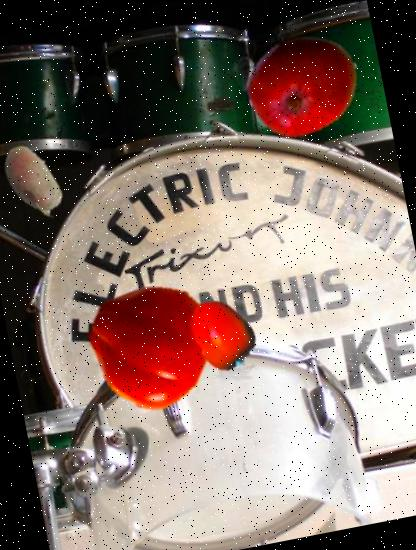Kaki: (180, 290, 264, 374)
Mango: (236, 19, 370, 152)
Potato: (0, 133, 82, 230)
Tomato: (75, 270, 223, 417)
